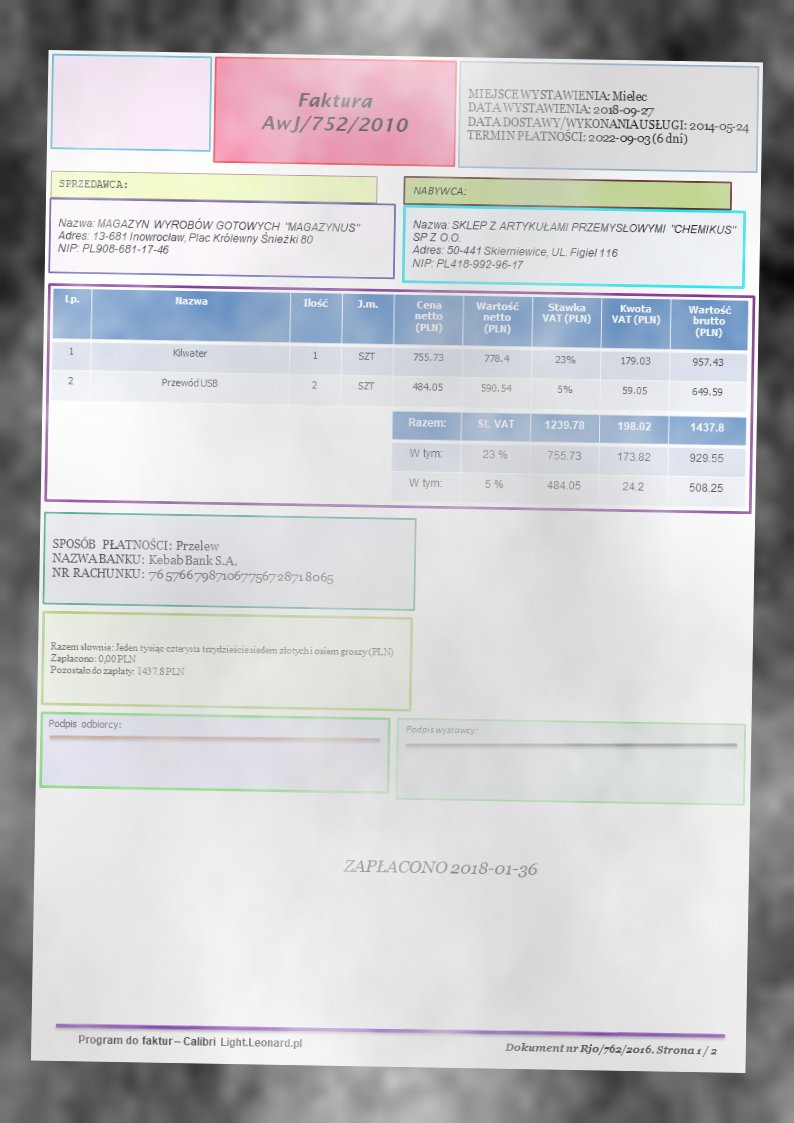Table: (51, 288, 749, 413), (389, 409, 748, 509)
TextBox: (408, 216, 739, 275), (465, 83, 752, 150), (50, 531, 335, 588), (48, 639, 396, 683), (56, 214, 363, 261), (258, 87, 413, 138), (339, 854, 543, 880), (75, 1030, 305, 1052), (504, 1037, 720, 1060), (47, 712, 123, 732), (56, 173, 129, 192), (402, 720, 477, 737), (410, 181, 468, 198)
